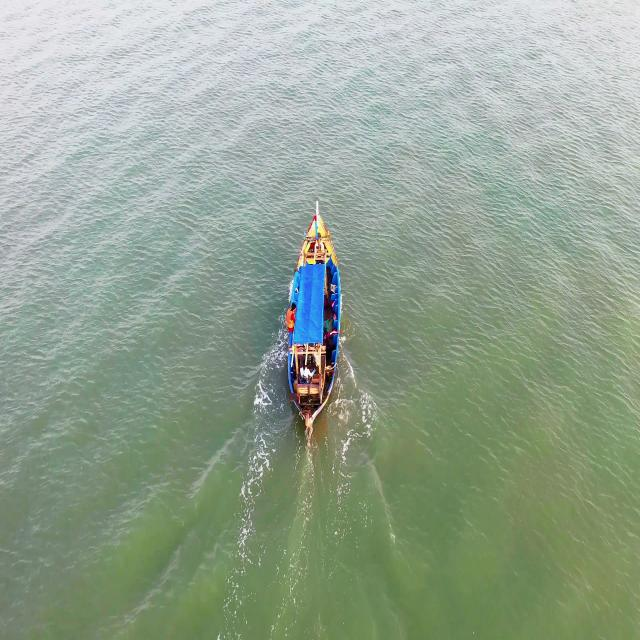ship: (286, 195, 344, 434)
